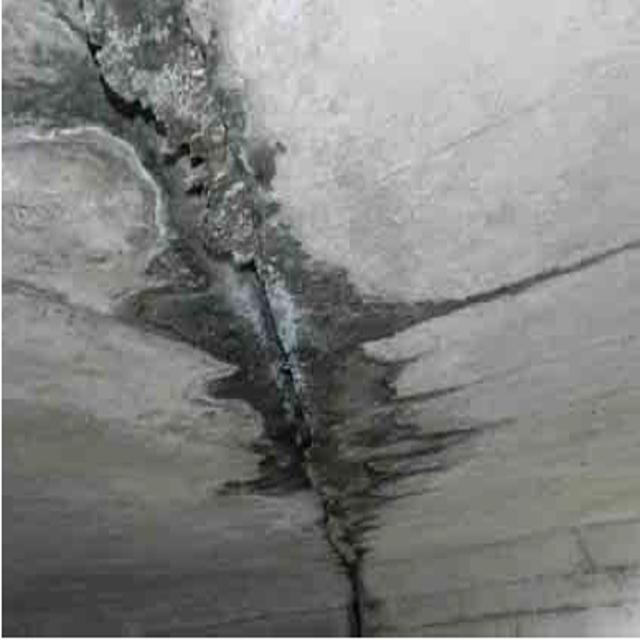leakage: (50, 27, 420, 602)
